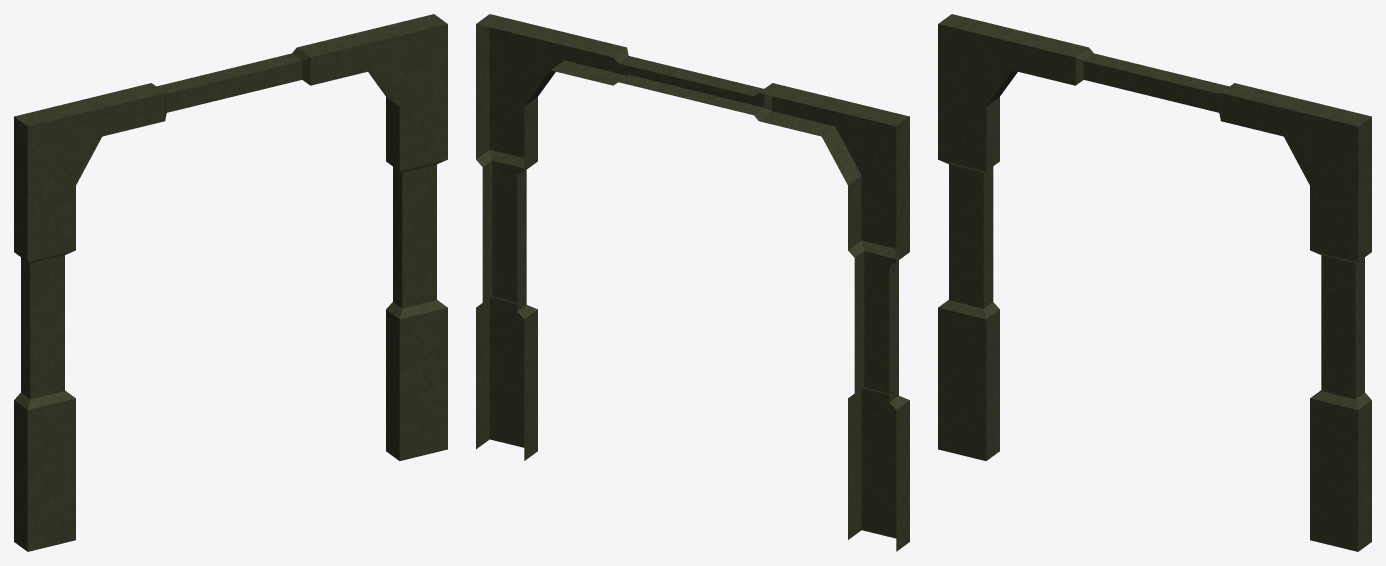
Rendered from CubeBaseFrontDoor1.fbx.
The picture shows the model from 3 angles, left to right: view 1: azimuth 30°, elevation 25°; view 2: azimuth 150°, elevation 25°; view 3: azimuth 330°, elevation 25°; orthographic projection.
Parts seen in each view (by area): view 1: polySurface2; view 2: polySurface2; view 3: polySurface2.
Boxes of the visible parts, bbox=[...] form: polySurface2: bbox=[14, 14, 447, 551]; polySurface2: bbox=[476, 14, 909, 551]; polySurface2: bbox=[938, 14, 1371, 551].
Size of the model in its own units: 3.1 by 3 by 0.175.
Materials: 1 (1 with a texture image).
